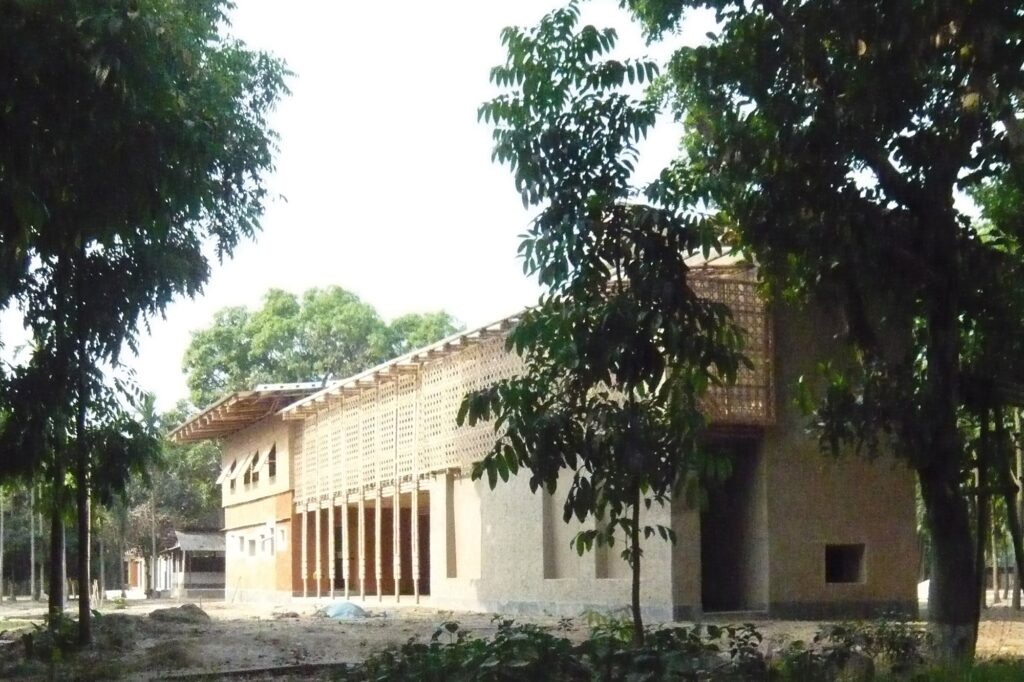Mud House: (173, 296, 933, 624)
